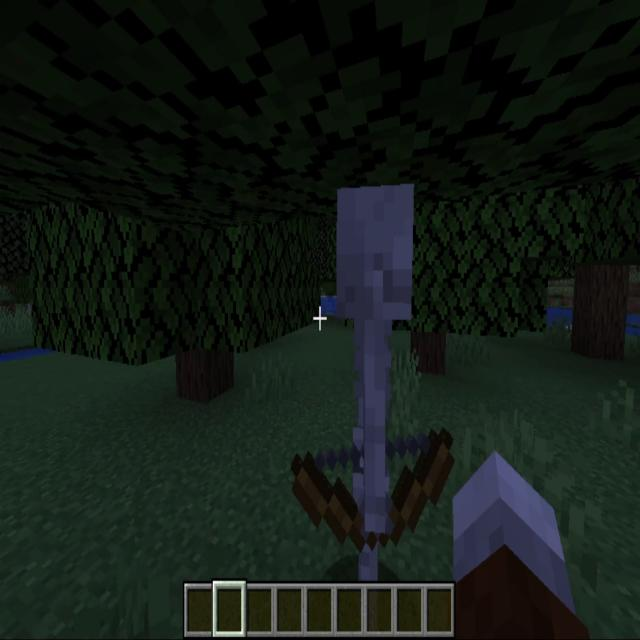Skeleton: (292, 182, 452, 640)
